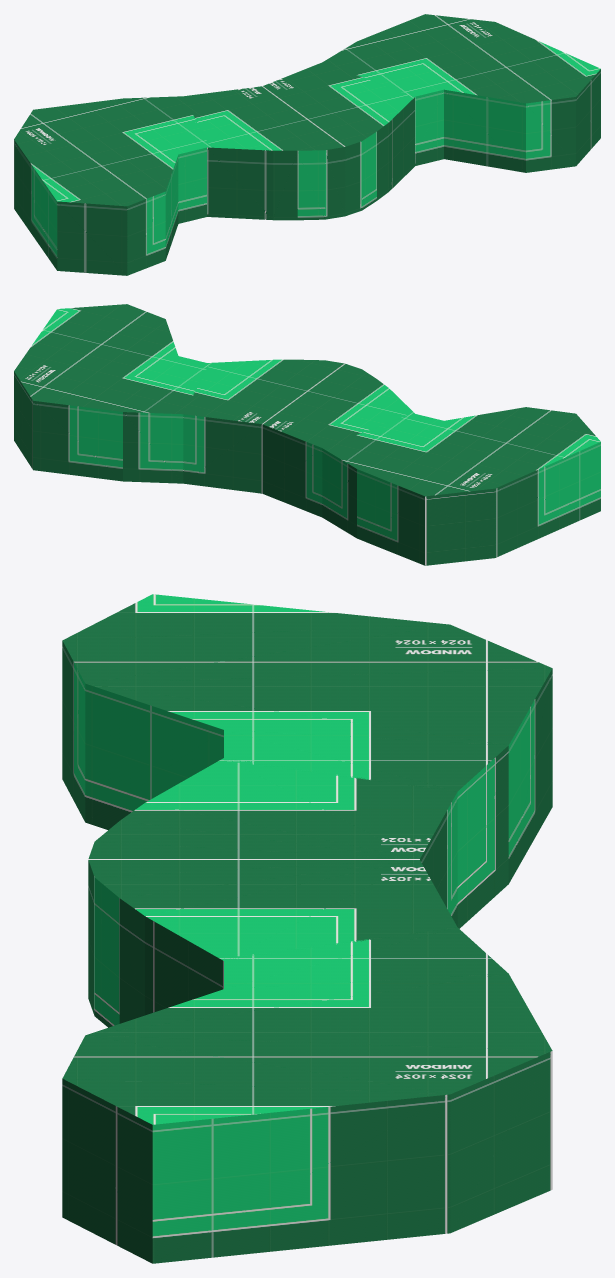
Rendered from FlyableNavigationMesh.gltf.
The picture shows the model from 3 angles, top to bottom: view 1: azimuth 30°, elevation 25°; view 2: azimuth 150°, elevation 25°; view 3: azimuth 270°, elevation 25°; orthographic projection. The views are drawn at different scales.
Parts seen in each view (by area): view 1: FlyingNavMesh; view 2: FlyingNavMesh; view 3: FlyingNavMesh.
Boxes of the visible parts, <box> form: FlyingNavMesh: <box>14,14,600,275</box>; FlyingNavMesh: <box>14,304,600,565</box>; FlyingNavMesh: <box>62,594,552,1263</box>.
Size of the model in its own units: 86 by 10.5 by 33.57.
Materials: 1 (1 with a texture image).
